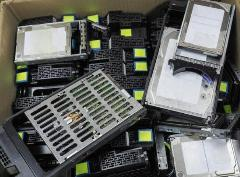electronic: (6, 3, 239, 176)
